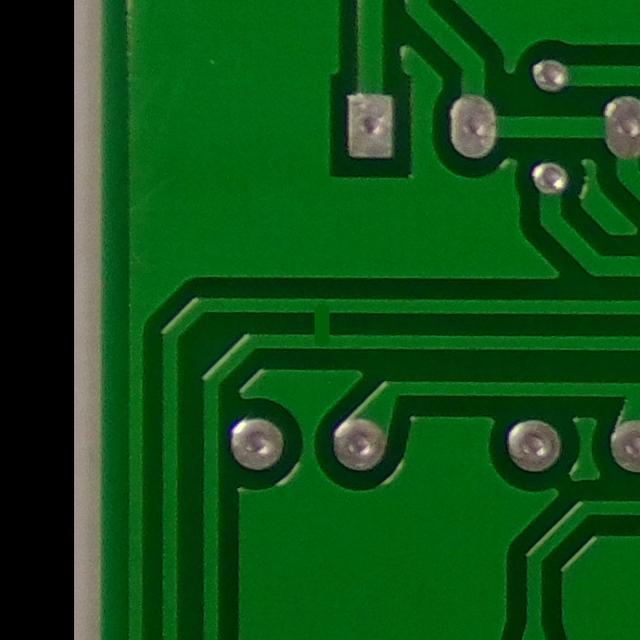short: (294, 282, 345, 359)
